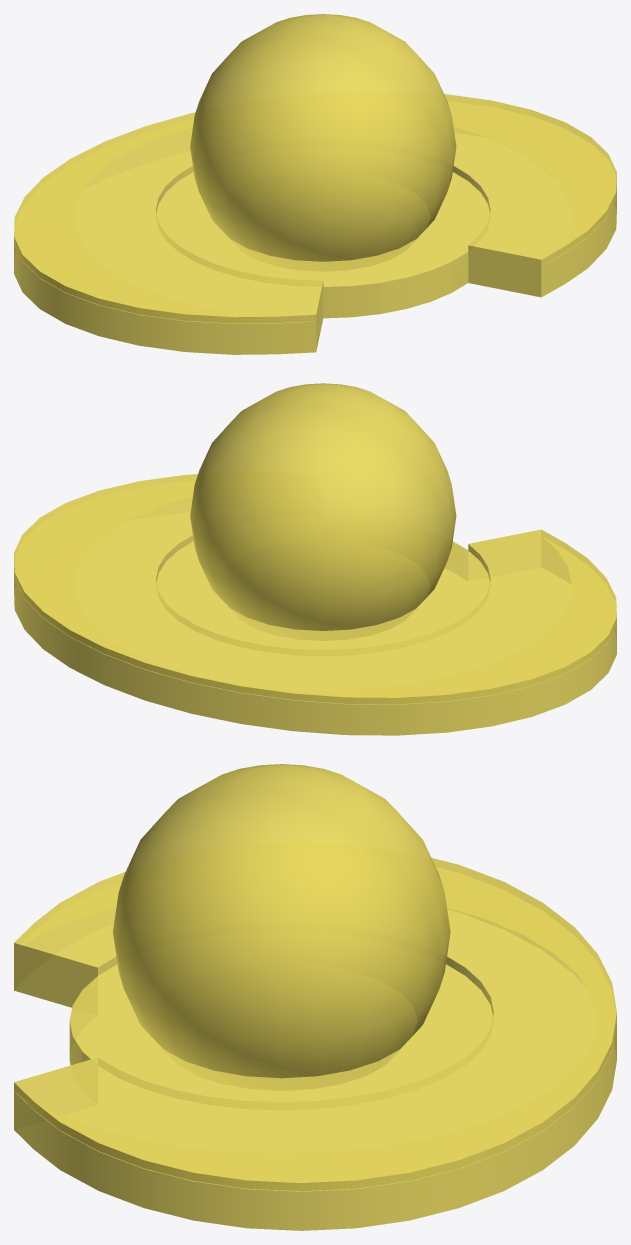
3 views of the same model, one above another, from view 1: azimuth 30°, elevation 25°; view 2: azimuth 150°, elevation 25°; view 3: azimuth 270°, elevation 25° (orthographic). The views are drawn at different scales.
Parts seen in each view (by area): view 1: 圆柱.1, 球体.1; view 2: 圆柱.1, 球体.1; view 3: 圆柱.1, 球体.1.
Boxes of the visible parts, x1=… form: 圆柱.1: x1=14, y1=94, x2=616, y2=354; 球体.1: x1=190, y1=14, x2=456, y2=270; 圆柱.1: x1=14, y1=474, x2=616, y2=735; 球体.1: x1=190, y1=383, x2=456, y2=640; 圆柱.1: x1=14, y1=858, x2=616, y2=1230; 球体.1: x1=113, y1=764, x2=450, y2=1090.
Size of the model in its own units: 631 by 242 by 471.
